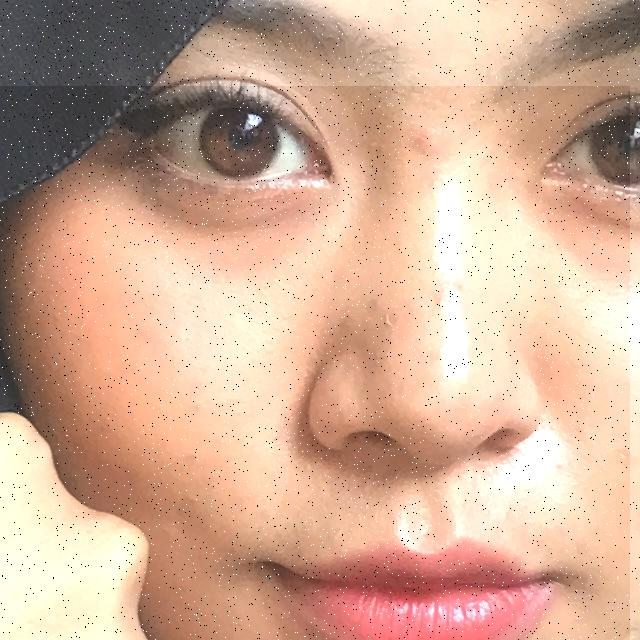telpon: (0, 86, 630, 640)
